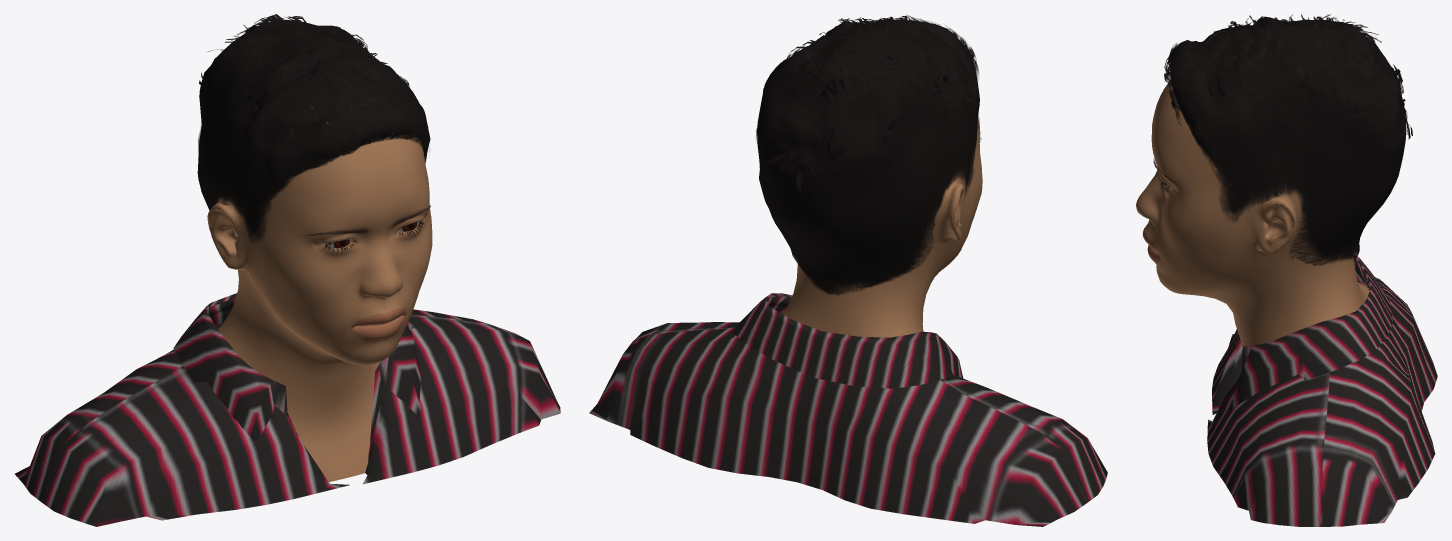
Rendered from man-05.glb.
3 views of the same model, side by side, from view 1: azimuth 30°, elevation 25°; view 2: azimuth 150°, elevation 25°; view 3: azimuth 270°, elevation 25° (orthographic). The views are drawn at different scales.
Parts seen in each view (by area): view 1: mpfb-face.male_casualsuit03, mpfb-face, mpfb-face.short01; view 2: mpfb-face.male_casualsuit03, mpfb-face.short01, mpfb-face; view 3: mpfb-face.male_casualsuit03, mpfb-face.short01, mpfb-face.
Boxes of the visible parts, left/top/right/bottom form: mpfb-face.male_casualsuit03: left=15, top=293, right=560, bottom=526; mpfb-face: left=207, top=106, right=432, bottom=482; mpfb-face.short01: left=197, top=14, right=430, bottom=243; mpfb-face.male_casualsuit03: left=589, top=293, right=1107, bottom=526; mpfb-face.short01: left=756, top=15, right=979, bottom=295; mpfb-face: left=782, top=118, right=982, bottom=337; mpfb-face.male_casualsuit03: left=1207, top=255, right=1437, bottom=526; mpfb-face.short01: left=1164, top=14, right=1412, bottom=265; mpfb-face: left=1136, top=82, right=1369, bottom=348.
Size of the model in its own units: 0.4262 by 0.3464 by 0.2413.
Materials: 9 (7 with a texture image).
